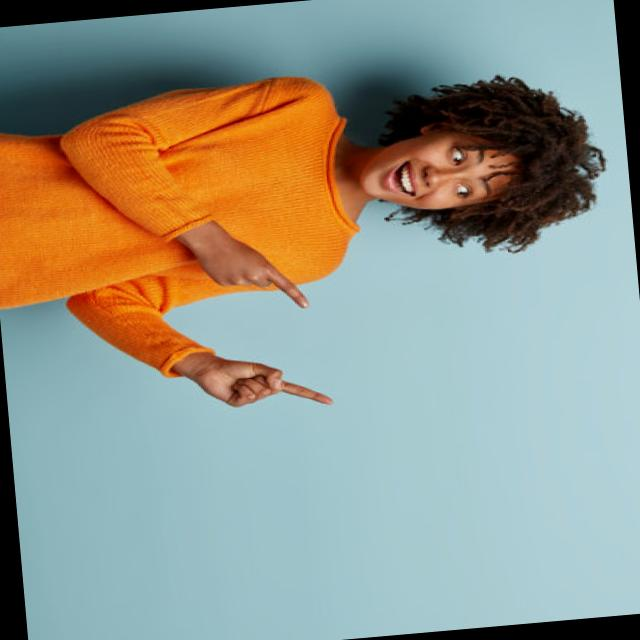Hand: (182, 341, 336, 424), (186, 224, 312, 322)
